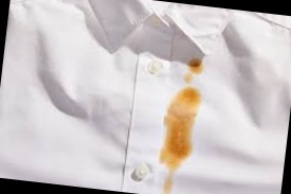coffee: (166, 88, 198, 161), (189, 58, 204, 74)
